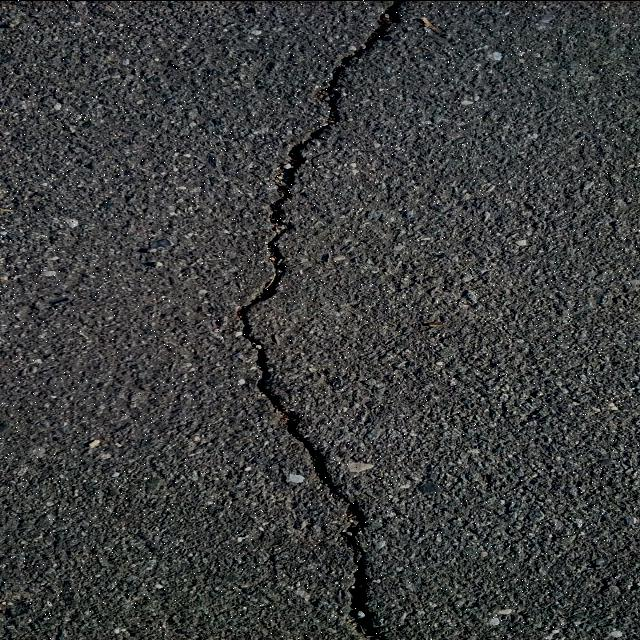Crack: (237, 0, 403, 640)
